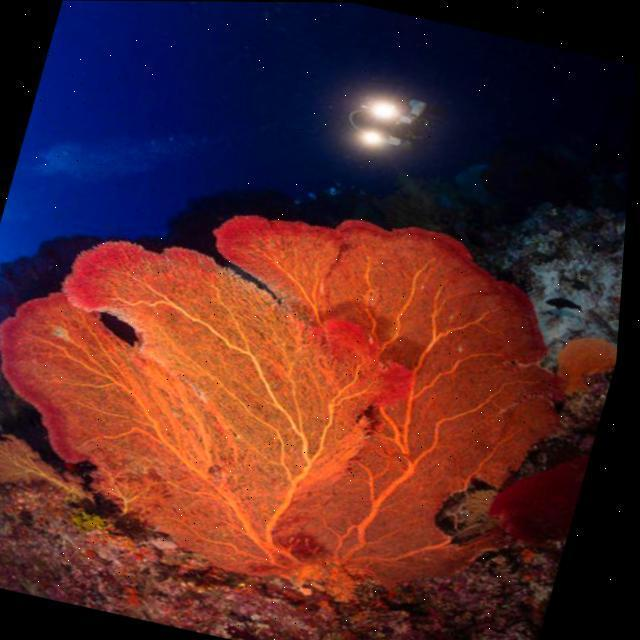Healthy Coral: (0, 206, 607, 583)
